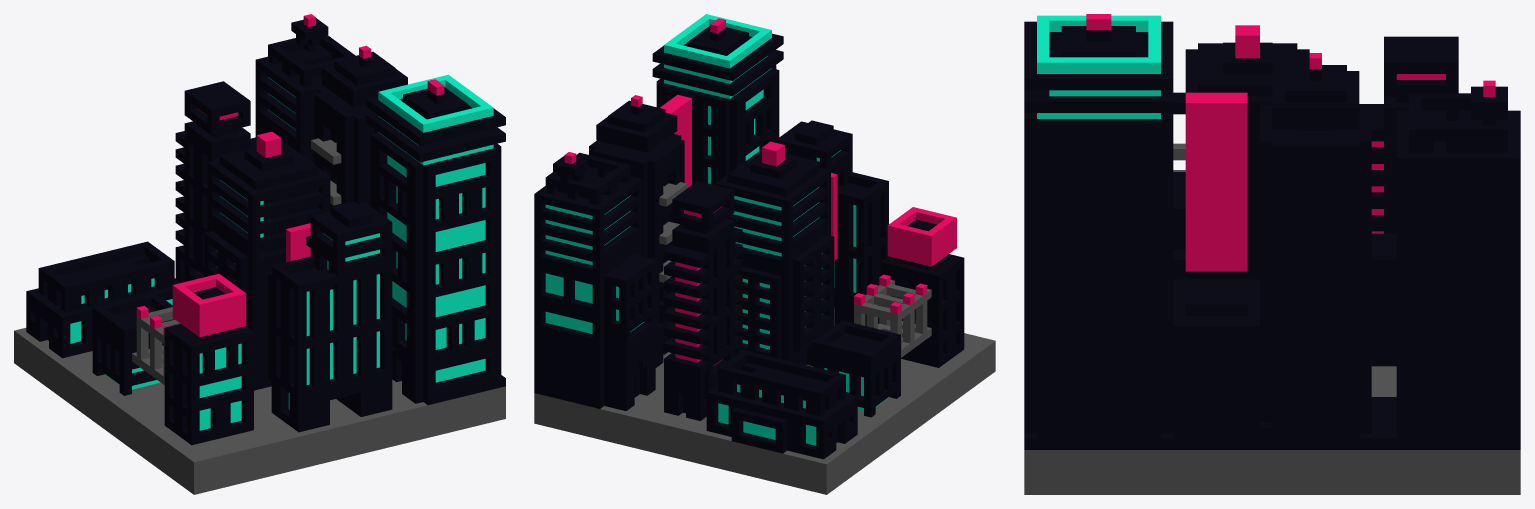
File: cityscape1.obj
3 renders of one model, left to right at view 1: azimuth 30°, elevation 25°; view 2: azimuth 150°, elevation 25°; view 3: azimuth 270°, elevation 25°, orthographic. The views are drawn at different scales.
Visible parts, largest first — view 1: cityscape1; view 2: cityscape1; view 3: cityscape1.
Boxes of the visible parts, x1,y1,x2,y2 form: cityscape1: (14, 14, 505, 494); cityscape1: (534, 14, 995, 494); cityscape1: (1024, 14, 1520, 494).
Bounding box in the file's own units: 40 × 40 × 40.
1 material, 1 textured.
